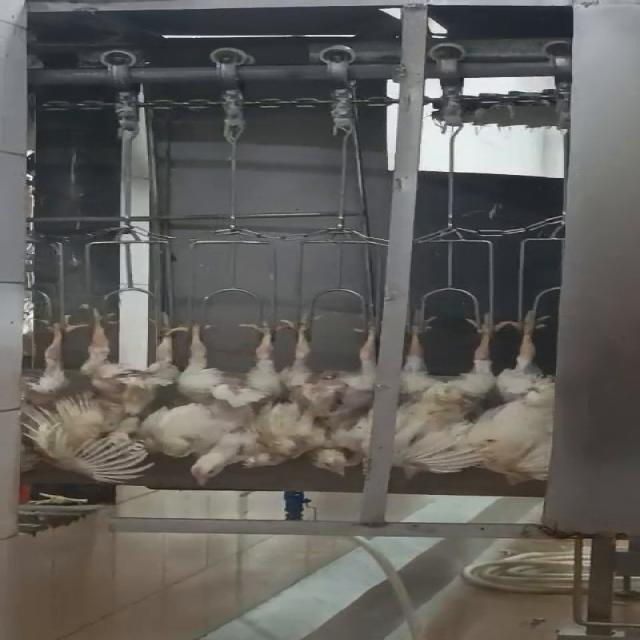chicken: (144, 316, 299, 492), (0, 298, 144, 480), (386, 307, 512, 482), (471, 301, 560, 496), (277, 316, 379, 479), (80, 304, 173, 447)
